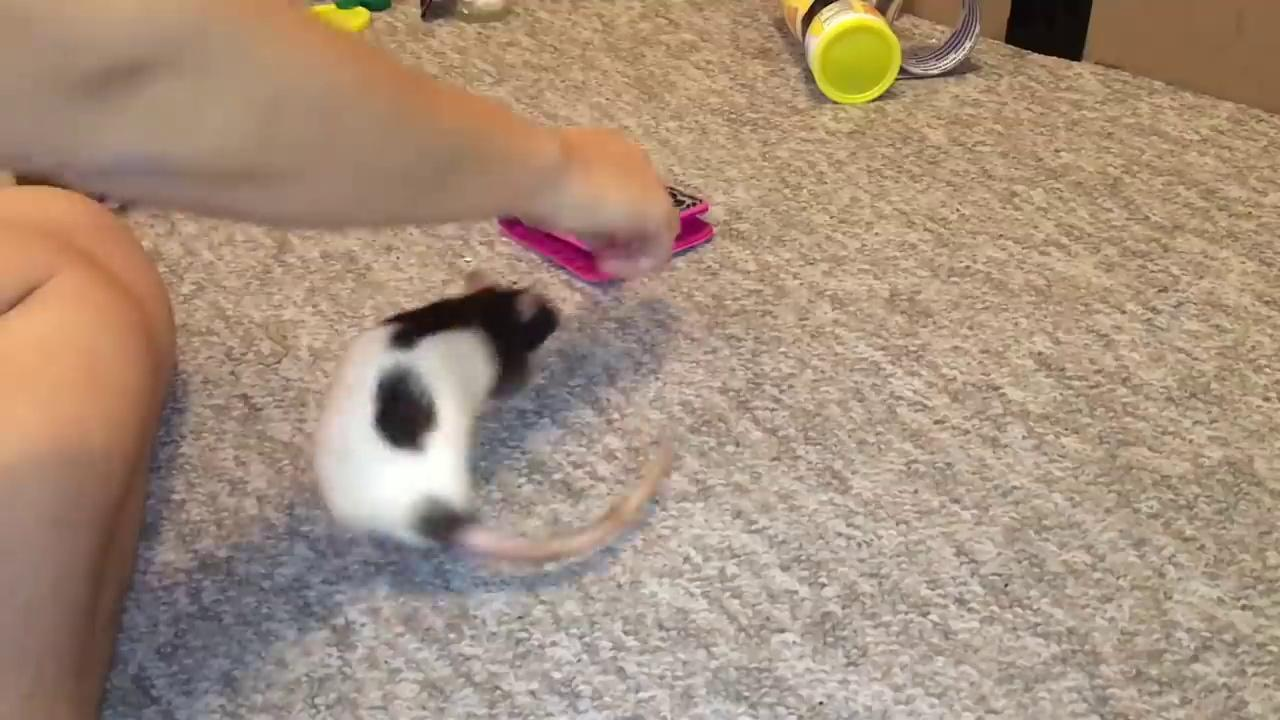rat: (306, 279, 680, 581)
